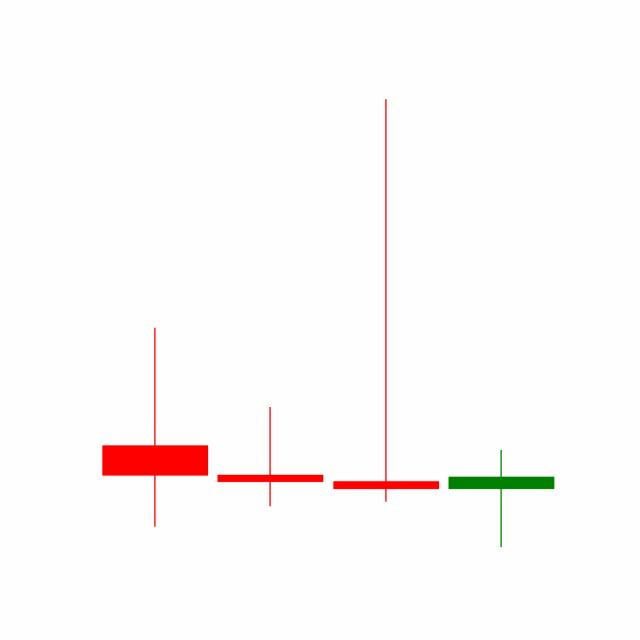Spinning Top: (443, 448, 559, 549)
